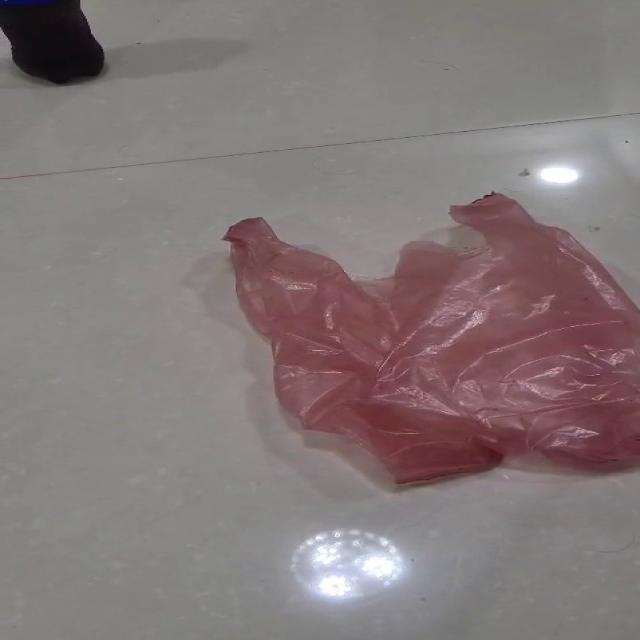plastic: (221, 190, 637, 486)
